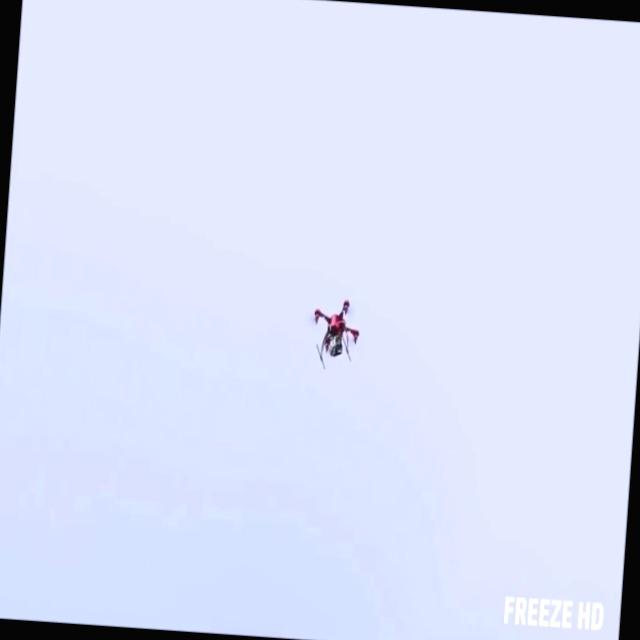drone: (306, 293, 364, 372)
